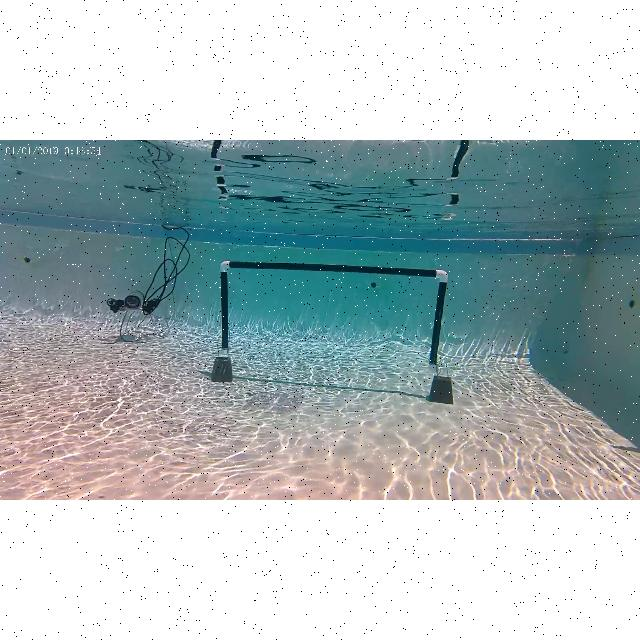prequal gate: (220, 260, 448, 370)
prequal gate leg l: (218, 259, 234, 357)
prequal gate leg r: (426, 267, 449, 373)
